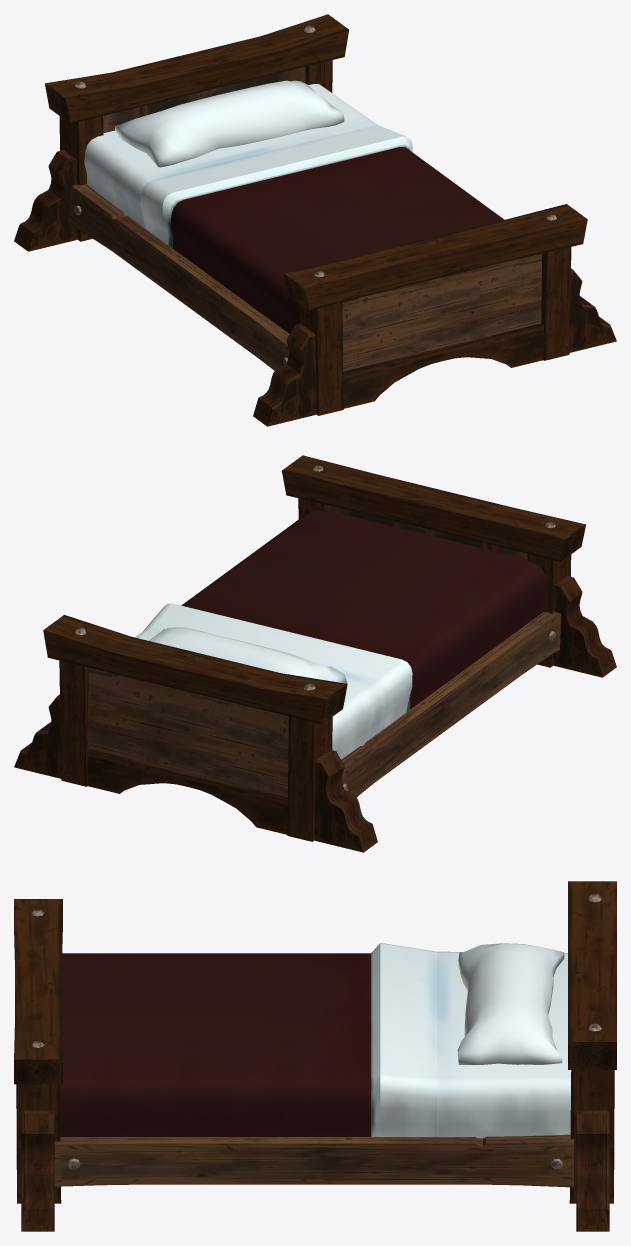
The model's file is Bed_Twin3_Worn.glb.
3 views of the same model, one above another, from view 1: azimuth 30°, elevation 25°; view 2: azimuth 150°, elevation 25°; view 3: azimuth 270°, elevation 25° (orthographic). The views are drawn at different scales.
Visible parts, largest first — view 1: Bed_Twin3; view 2: Bed_Twin3; view 3: Bed_Twin3.
Boxes of the visible parts, bbox=[...] form: Bed_Twin3: bbox=[14, 14, 616, 426]; Bed_Twin3: bbox=[14, 455, 616, 852]; Bed_Twin3: bbox=[14, 881, 616, 1231].
Size of the model in its own units: 1.88 by 0.7596 by 2.41.
3 materials, 3 textured.
